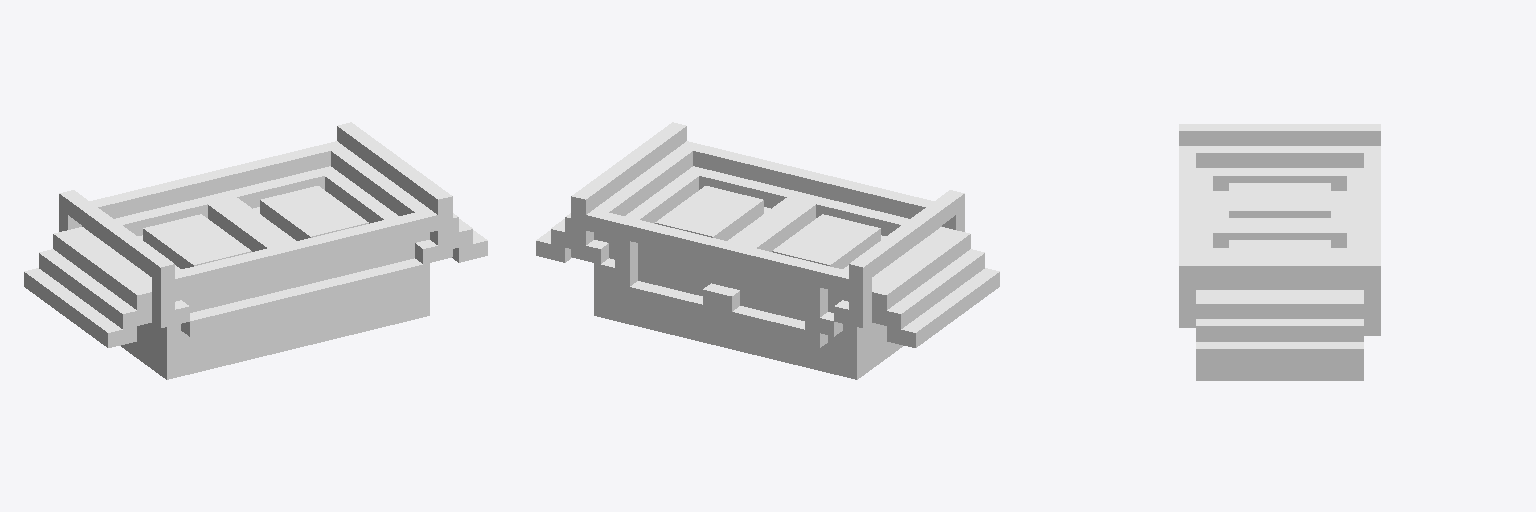
File: Busytankio_Heavy_Ammo_Chest.obj
The picture shows the model from 3 angles: view 1: azimuth 30°, elevation 25°; view 2: azimuth 150°, elevation 25°; view 3: azimuth 270°, elevation 25°; orthographic projection.
Parts seen in each view (by area): view 1: object 1; view 2: object 1; view 3: object 1.
Boxes of the visible parts, <box> form: object 1: <box>24,122,487,379</box>; object 1: <box>536,122,999,379</box>; object 1: <box>1179,124,1380,380</box>.
Size of the model in its own units: 2.6 by 0.8 by 1.2.